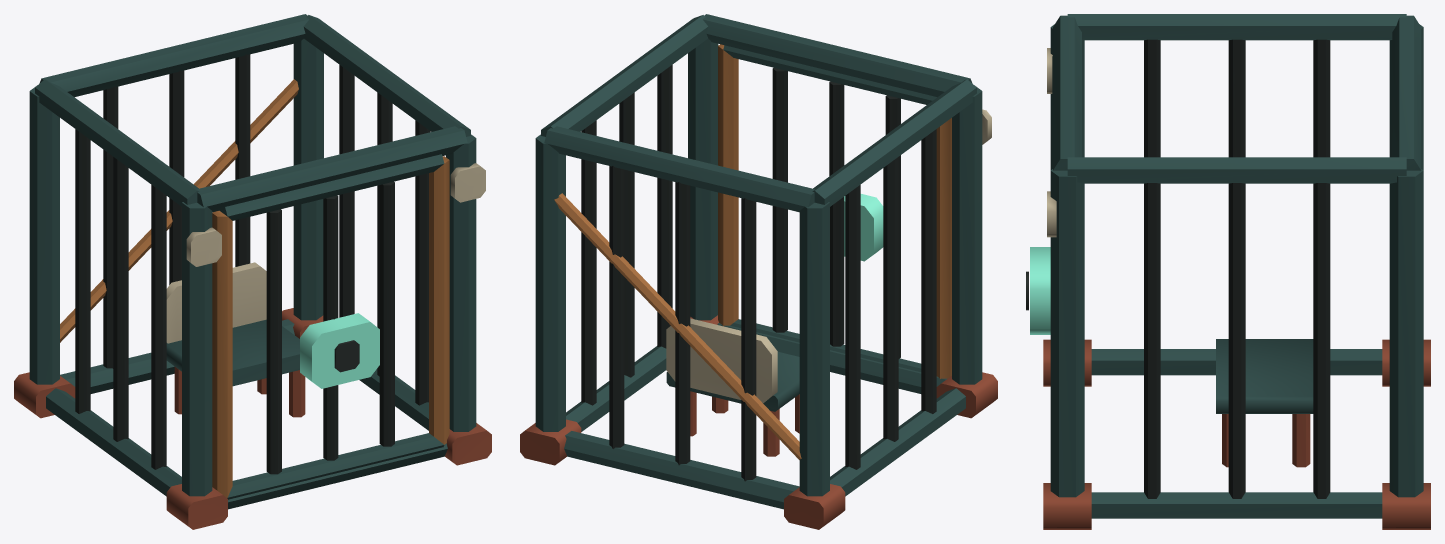
The model's file is rescue_cage.glb.
The picture shows the model from 3 angles, left to right: view 1: azimuth 30°, elevation 25°; view 2: azimuth 150°, elevation 25°; view 3: azimuth 270°, elevation 25°; orthographic projection. The views are drawn at different scales.
Visible parts, largest first — view 1: CageFrame, CageGate, CageSeat, CageLatch; view 2: CageFrame, CageGate, CageSeat, CageLatch; view 3: CageFrame, CageGate, CageSeat, CageLatch.
Boxes of the visible parts, x1=… form: CageFrame: x1=14, y1=14, x2=491, y2=529; CageGate: x1=60, y1=54, x2=449, y2=499; CageSeat: x1=166, y1=262, x2=305, y2=417; CageLatch: x1=300, y1=313, x2=379, y2=388; CageFrame: x1=520, y1=14, x2=997, y2=529; CageGate: x1=554, y1=44, x2=951, y2=481; CageSeat: x1=666, y1=318, x2=799, y2=456; CageLatch: x1=844, y1=194, x2=883, y2=261; CageFrame: x1=1043, y1=14, x2=1430, y2=529; CageGate: x1=1052, y1=39, x2=1330, y2=498; CageSeat: x1=1216, y1=339, x2=1313, y2=467; CageLatch: x1=1026, y1=247, x2=1050, y2=334.
Size of the model in its own units: 3.22 by 3.32 by 3.34.
